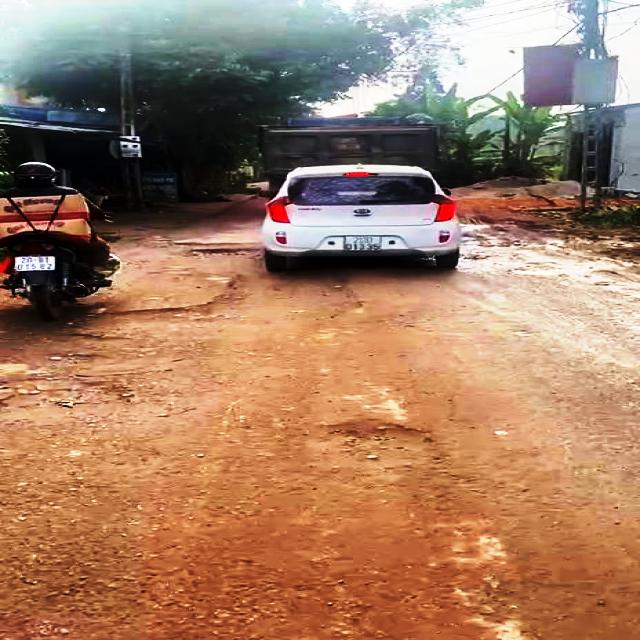pothole: (334, 415, 456, 498), (107, 296, 350, 327), (1, 369, 130, 409), (179, 247, 262, 262)
